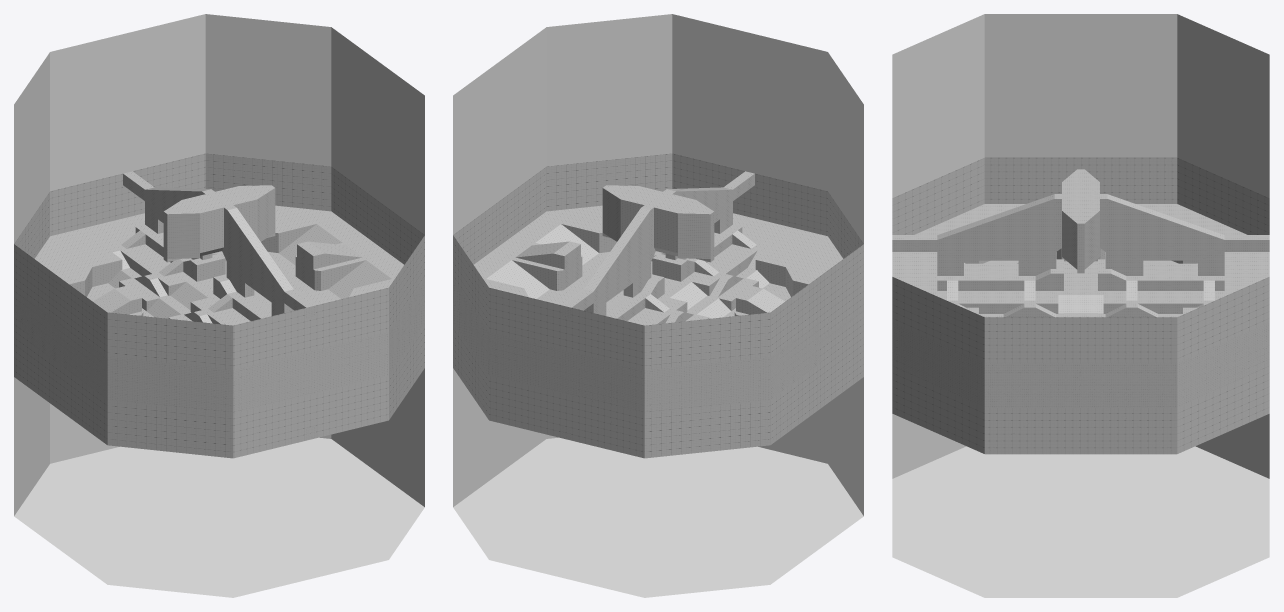
The model's file is level.glb.
3 renders of one model, left to right at view 1: azimuth 30°, elevation 25°; view 2: azimuth 150°, elevation 25°; view 3: azimuth 270°, elevation 25°, orthographic. The views are drawn at different scales.
Parts seen in each view (by area): view 1: border, level; view 2: border, level; view 3: border, level.
Boxes of the visible parts, x1,y1,x2,y2 form: border: (14,14,424,597); level: (14,171,424,440); border: (453,14,863,597); level: (453,171,863,440); border: (892,14,1269,597); level: (892,169,1269,407).
Size of the model in its own units: 100 by 124 by 100.
Materials: 1 (1 with a texture image).
